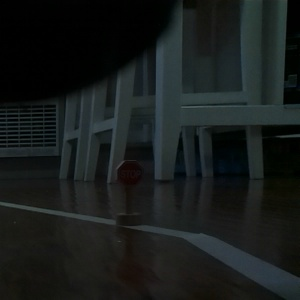stop sign: (113, 158, 146, 228)
